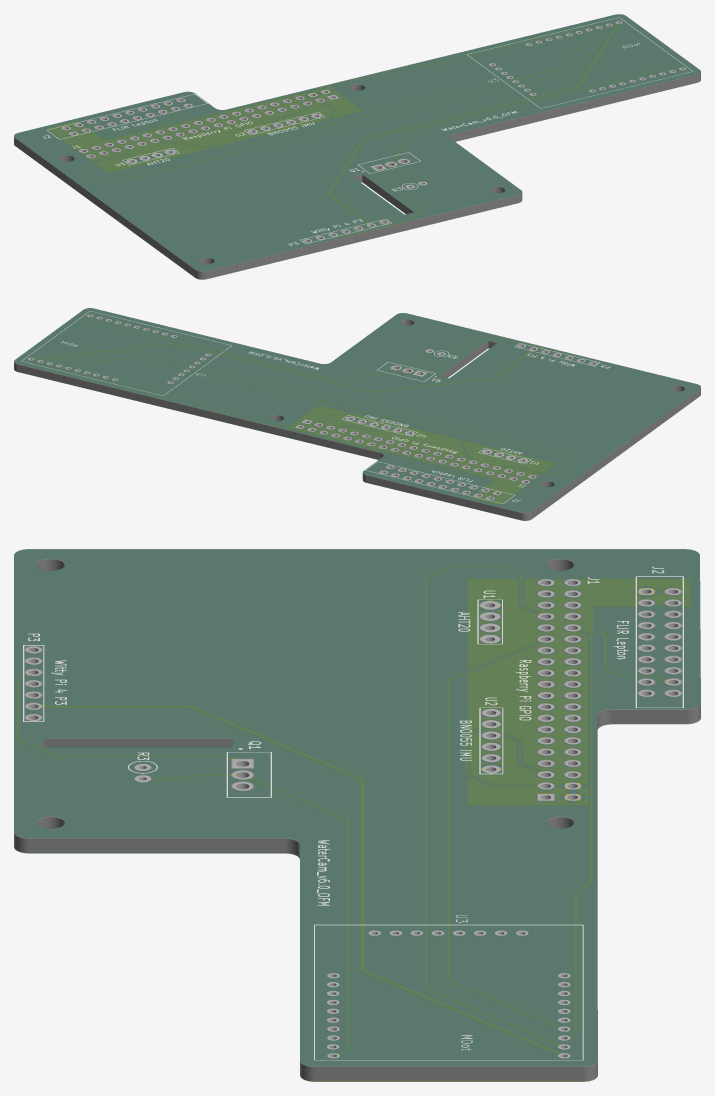
3 renders of one model, top to bottom at view 1: azimuth 30°, elevation 25°; view 2: azimuth 150°, elevation 25°; view 3: azimuth 270°, elevation 25°, orthographic. The views are drawn at different scales.
Visible parts, largest first — view 1: =>[0:1:1:7], =>[0:1:1:9], =>[0:1:1:2], =>[0:1:1:3], =>[0:1:1:5], =>[0:1:1:8]; view 2: =>[0:1:1:7], =>[0:1:1:9], =>[0:1:1:2], =>[0:1:1:3], =>[0:1:1:5], =>[0:1:1:8]; view 3: =>[0:1:1:7], =>[0:1:1:9], =>[0:1:1:2], =>[0:1:1:3], =>[0:1:1:5].
Boxes of the visible parts, left/top/right/bottom form: =>[0:1:1:7]: left=14, top=14, right=700, bottom=271; =>[0:1:1:9]: left=14, top=15, right=700, bottom=279; =>[0:1:1:2]: left=48, top=24, right=618, bottom=279; =>[0:1:1:3]: left=62, top=21, right=685, bottom=242; =>[0:1:1:5]: left=43, top=17, right=692, bottom=246; =>[0:1:1:8]: left=15, top=81, right=699, bottom=279; =>[0:1:1:7]: left=14, top=308, right=700, bottom=512; =>[0:1:1:9]: left=14, top=309, right=700, bottom=520; =>[0:1:1:2]: left=36, top=318, right=573, bottom=504; =>[0:1:1:3]: left=28, top=314, right=596, bottom=500; =>[0:1:1:5]: left=21, top=311, right=610, bottom=503; =>[0:1:1:8]: left=15, top=348, right=700, bottom=520; =>[0:1:1:7]: left=14, top=549, right=700, bottom=1066; =>[0:1:1:9]: left=14, top=550, right=700, bottom=1081; =>[0:1:1:2]: left=17, top=565, right=691, bottom=1081; =>[0:1:1:3]: left=25, top=579, right=681, bottom=1058; =>[0:1:1:5]: left=23, top=566, right=683, bottom=1060.
Bounding box in the file's own units: 0.1163 × 0.00166 × 0.0653.
